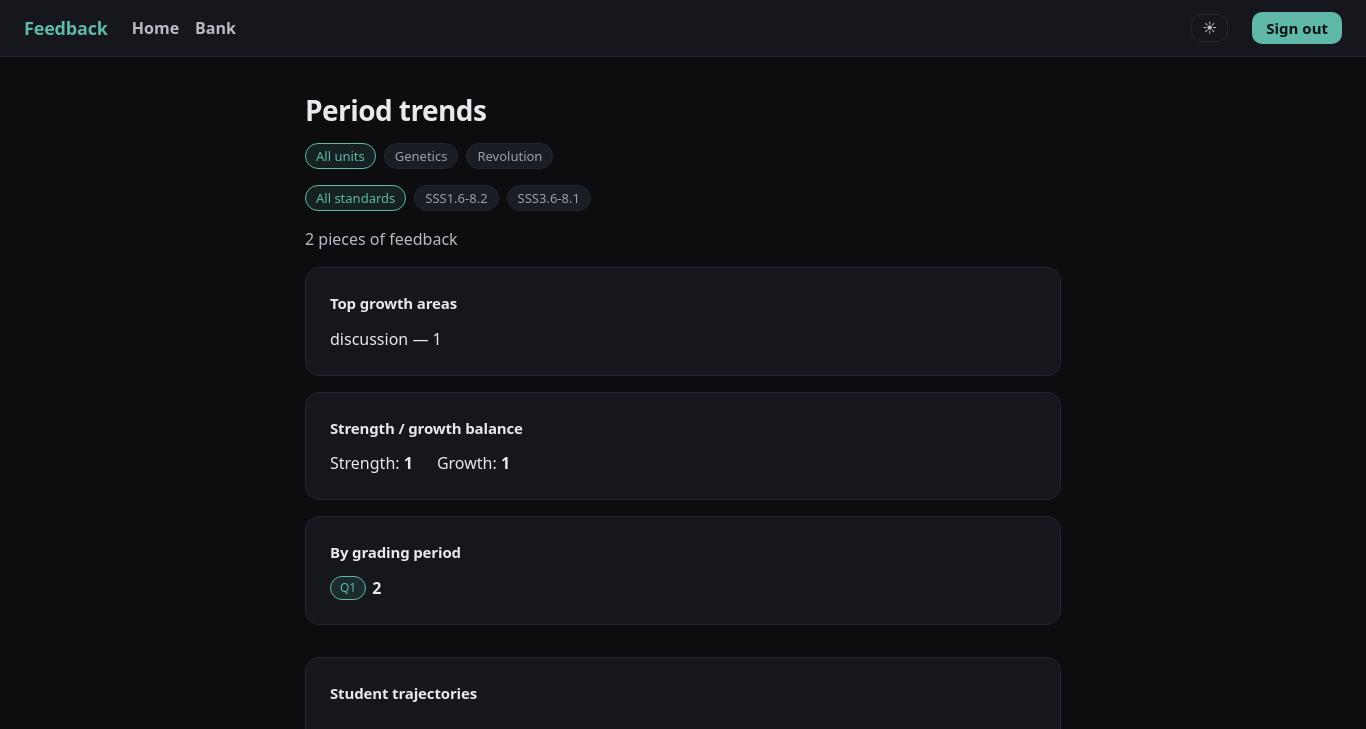
Test: TrendsPage › unit filter narrows BOTH the trends total and the trajectories
This screenshot has width=1366, height=729.
Check: the text "2 pieces of feedback" is shown, box [305,228,458,250]
// Pick the "Revolution" unit chip → only h1 (s1) survives.
Click the button "Revolution" at (510, 156), box [466,143,553,169]
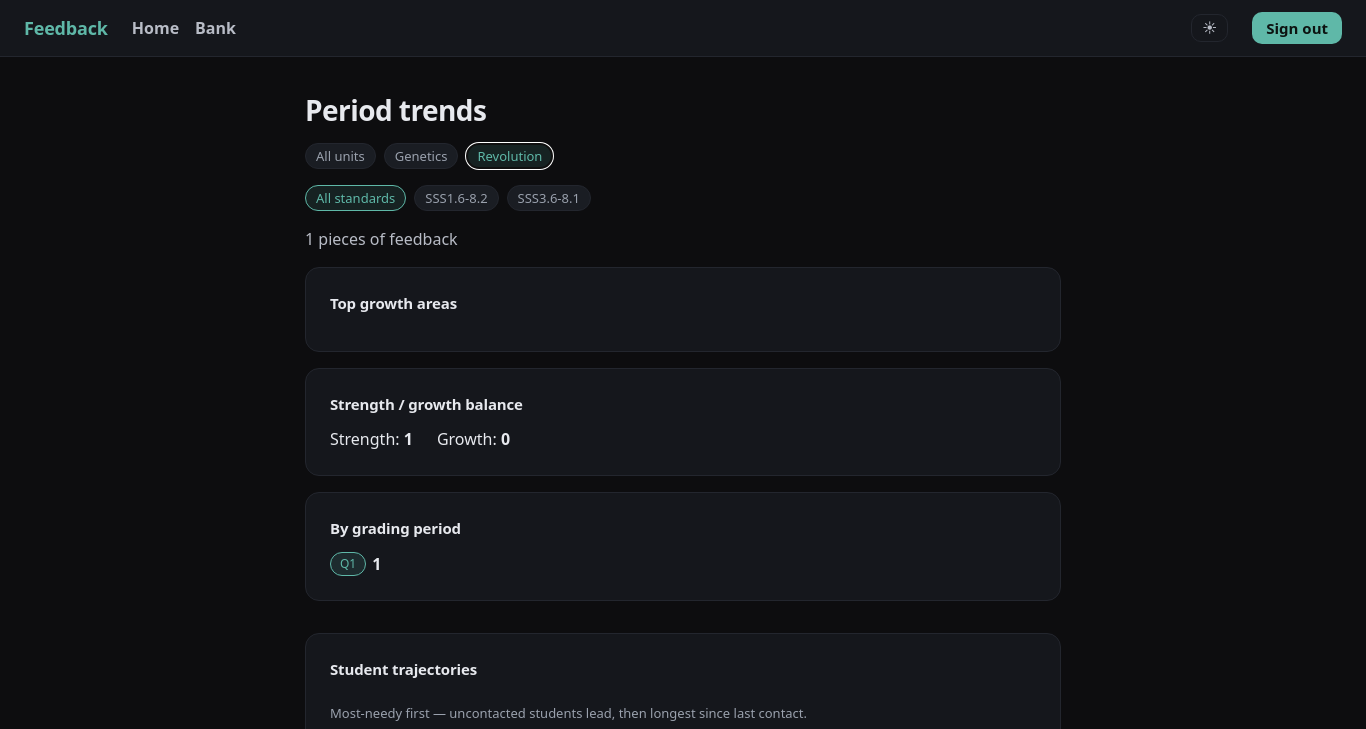
Check: the text "1 pieces of feedback" is shown, box [305,228,458,250]
